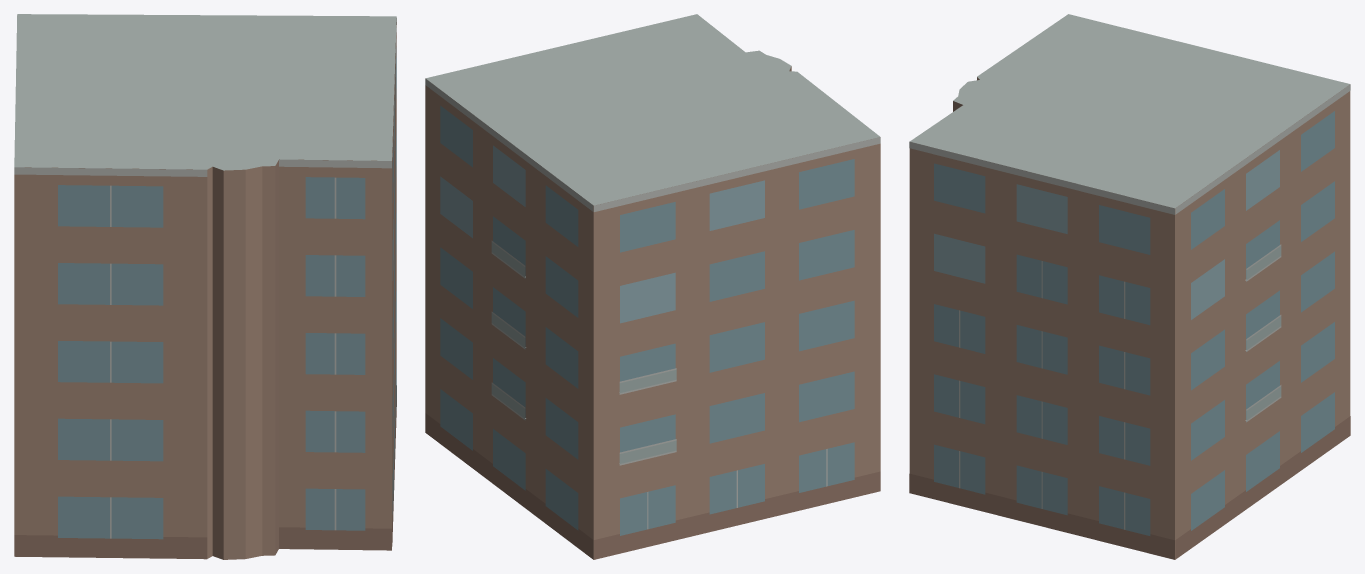
Rendered from survey-upis-32934962.glb.
3 views of the same model, side by side, from view 1: azimuth 30°, elevation 25°; view 2: azimuth 150°, elevation 25°; view 3: azimuth 270°, elevation 25° (orthographic). The views are drawn at different scales.
Visible parts, largest first — view 1: survey-upis-32934962.tmp; view 2: survey-upis-32934962.tmp; view 3: survey-upis-32934962.tmp.
Part boxes in pixels (box(x1,y1,x2,y2)): survey-upis-32934962.tmp: box(14, 14, 396, 559); survey-upis-32934962.tmp: box(425, 14, 880, 559); survey-upis-32934962.tmp: box(909, 14, 1350, 559).
Size of the model in its own units: 15.43 by 13 by 14.79.
